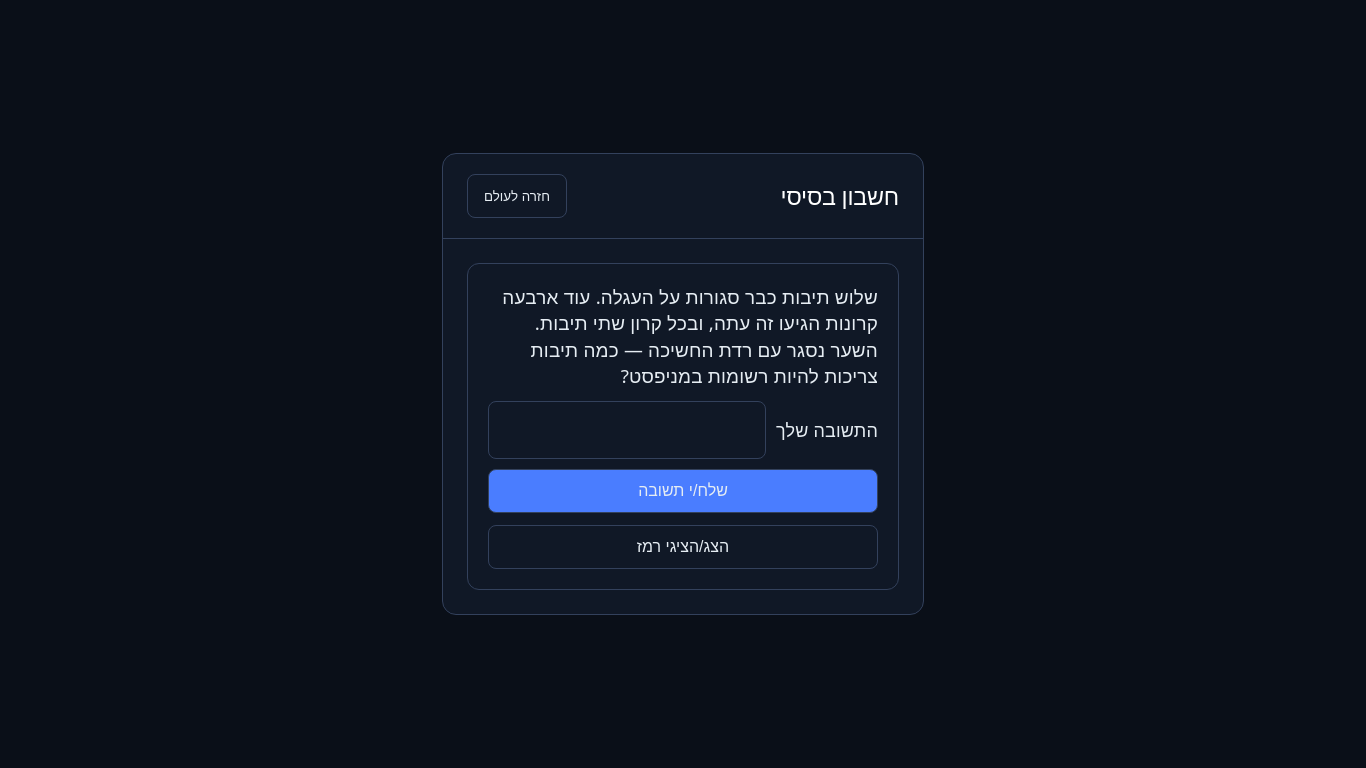
Test: LessonStage — question-selection fix pass (difficultyLevel provided) › shows a Next Question button after passing once difficultyLevel is provided
Type "11" into the number field with test id "math-answer-input" at (627, 430), box [488, 401, 766, 459]
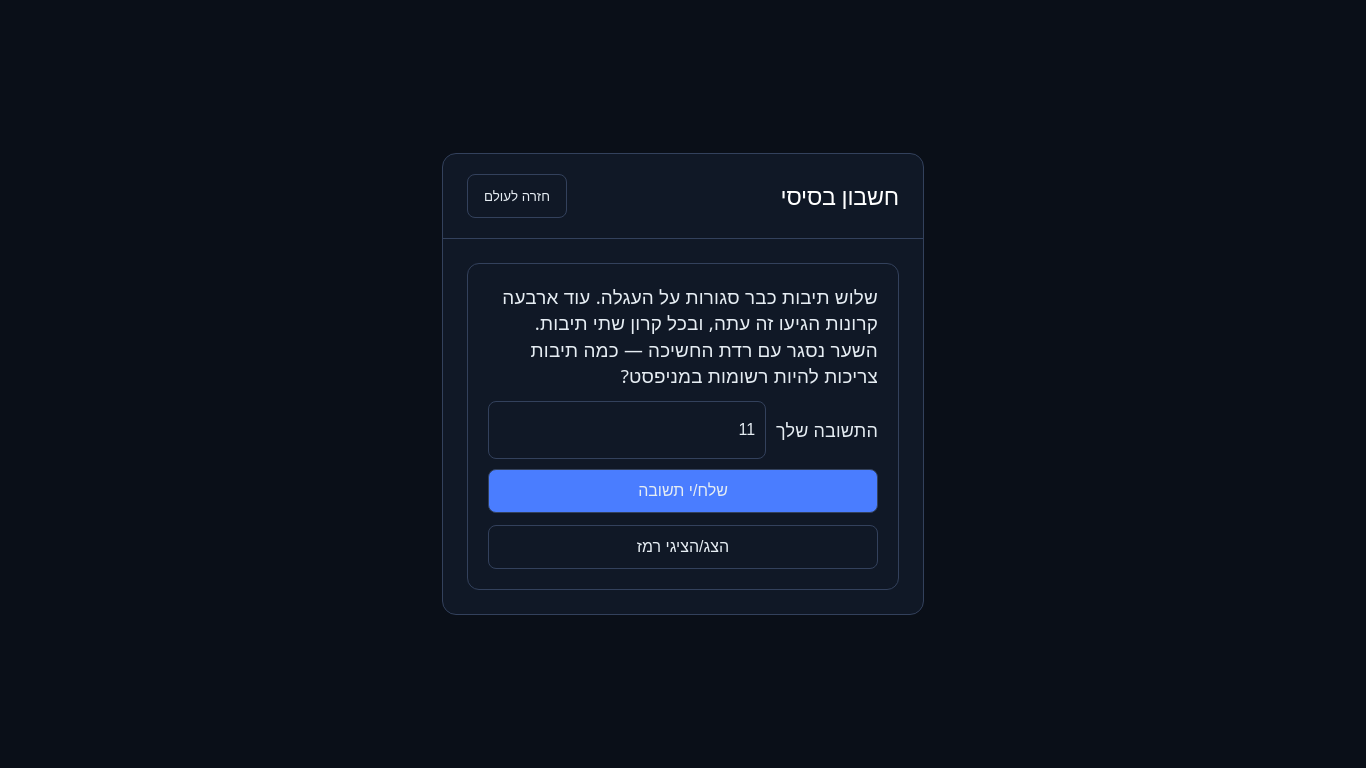
Click the button with test id "math-submit-button" at (683, 491), box [488, 469, 878, 513]
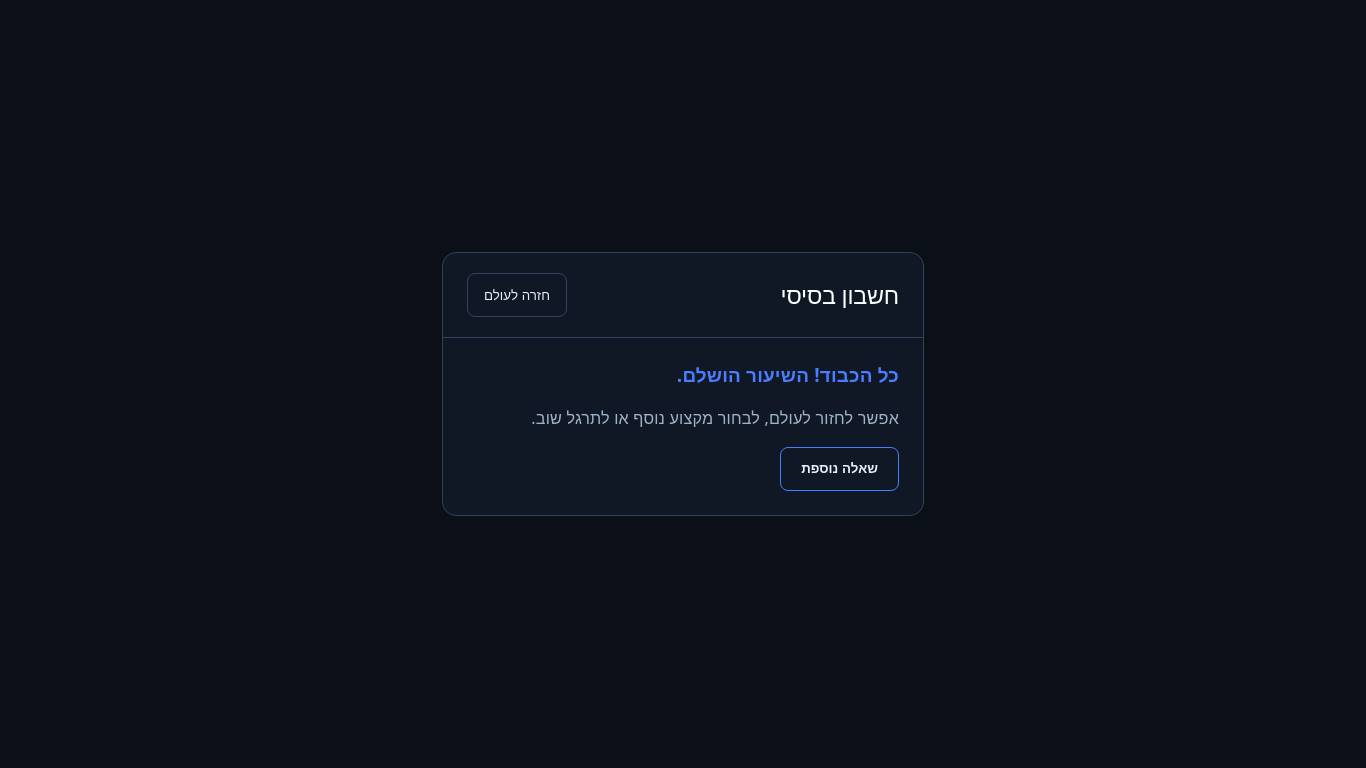
expect the text "כל הכבוד! השיעור הושלם." is shown: met, box [677, 362, 899, 388]
expect the button with test id "lesson-next-question-button" is shown: met, box [780, 447, 899, 491]
